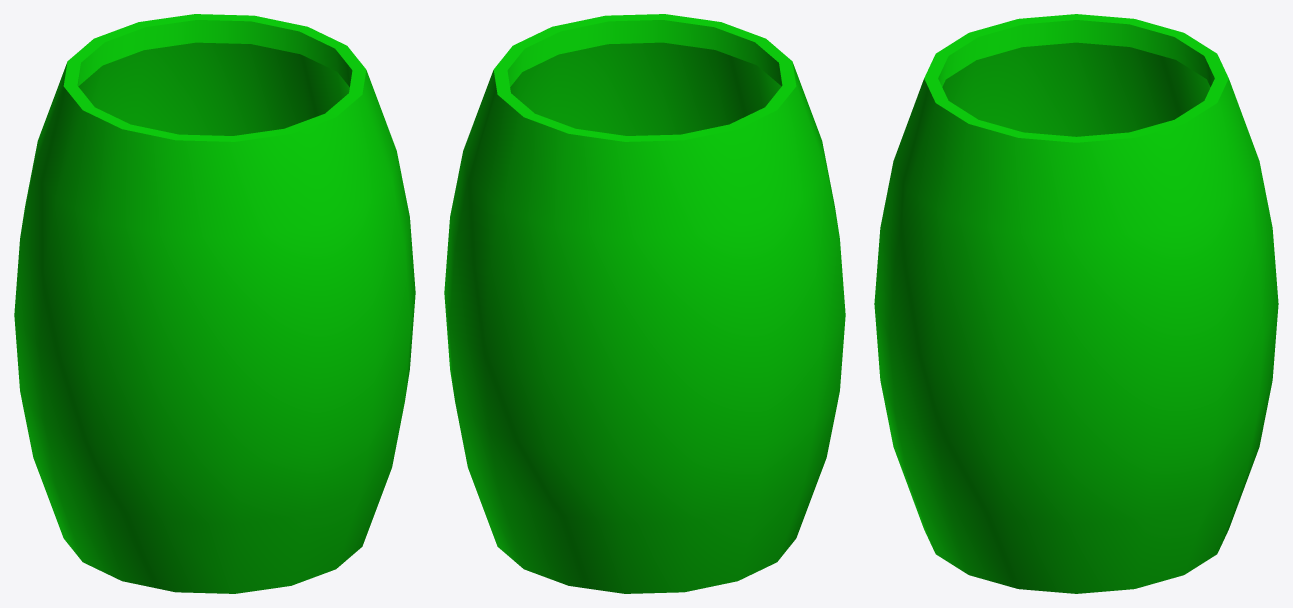
3 views of the same model, side by side, from view 1: azimuth 30°, elevation 25°; view 2: azimuth 150°, elevation 25°; view 3: azimuth 270°, elevation 25° (orthographic).
Visible parts, largest first — view 1: G:\FFXIV-MapTools\exports\f1f2\bg\ffxiv\fst_f1\fld\f1f2\bgpa; view 2: G:\FFXIV-MapTools\exports\f1f2\bg\ffxiv\fst_f1\fld\f1f2\bgpa; view 3: G:\FFXIV-MapTools\exports\f1f2\bg\ffxiv\fst_f1\fld\f1f2\bgpa.
Boxes of the visible parts, bbox=[...] form: G:\FFXIV-MapTools\exports\f1f2\bg\ffxiv\fst_f1\fld\f1f2\bgpa: bbox=[14, 14, 415, 593]; G:\FFXIV-MapTools\exports\f1f2\bg\ffxiv\fst_f1\fld\f1f2\bgpa: bbox=[444, 14, 845, 593]; G:\FFXIV-MapTools\exports\f1f2\bg\ffxiv\fst_f1\fld\f1f2\bgpa: bbox=[874, 14, 1278, 593].
Size of the model in its own units: 0.8696 by 1.07 by 0.8696.
